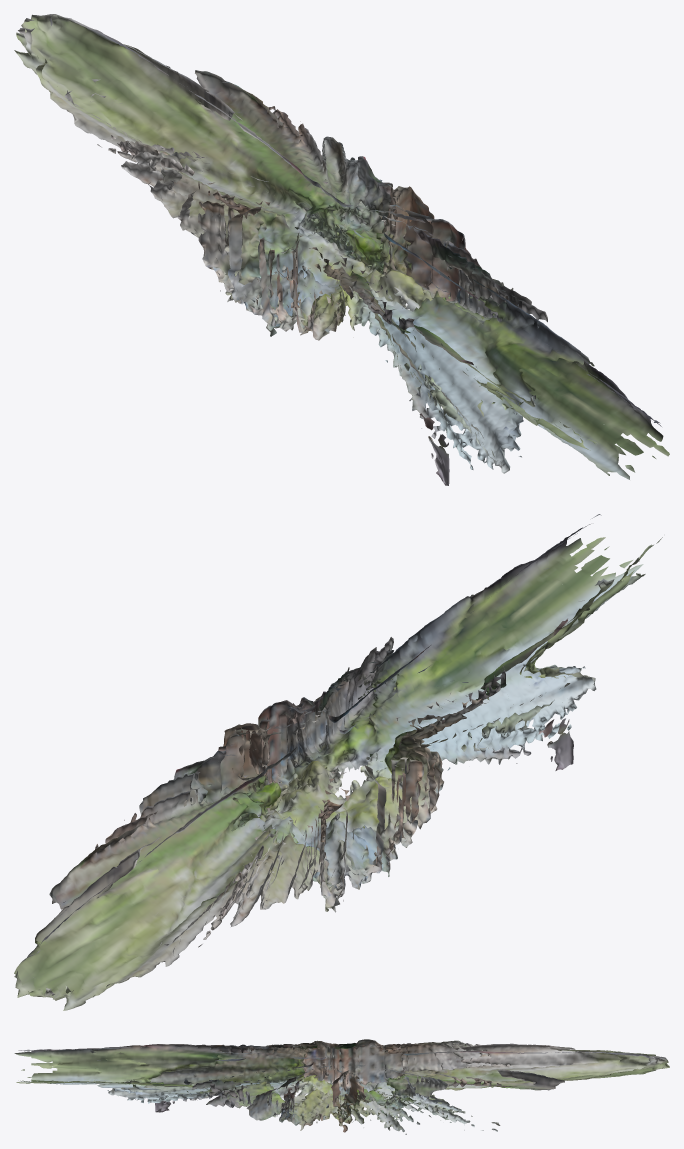
File: pano00_collider.glb
3 views of the same model, one above another, from view 1: azimuth 30°, elevation 25°; view 2: azimuth 150°, elevation 25°; view 3: azimuth 270°, elevation 25° (orthographic). The views are drawn at different scales.
Parts seen in each view (by area): view 1: world; view 2: world; view 3: world.
Part boxes in pixels (bbox=[...]): world: bbox=[14, 14, 669, 485]; world: bbox=[14, 514, 662, 1010]; world: bbox=[14, 1039, 669, 1134].
Size of the model in its own units: 7.96 by 6.38 by 50.44.
